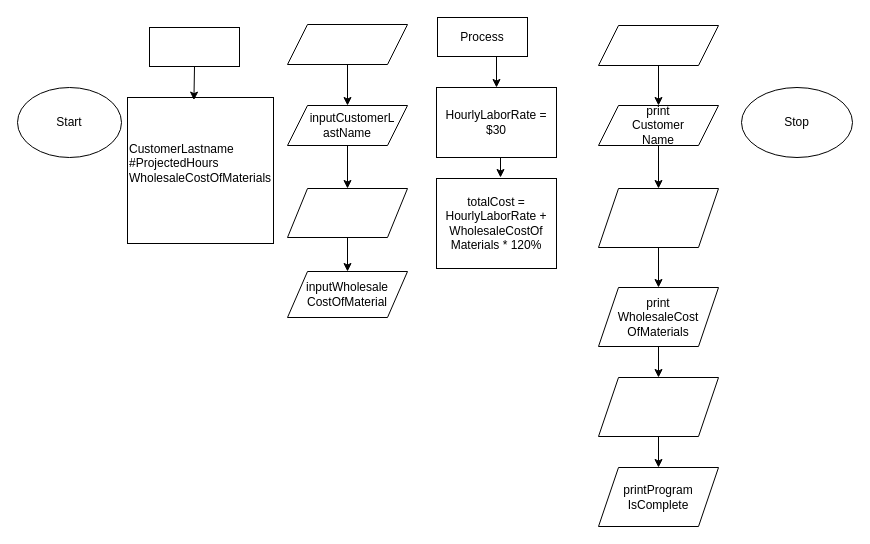
The diagram is 870 pixels wide and 544 high, and some of its shapes have lost their labels. The box of each missing label's shape, as (x1, y1, x2, y2) in pixels:
Input: (286, 24, 408, 64)
inputNumberof HoursForProject: (286, 188, 408, 238)
Output: (598, 24, 718, 66)
Plan: (148, 26, 240, 66)
print CostOfLabor: (598, 188, 718, 248)
print TotalCostOf Project: (598, 376, 718, 436)
